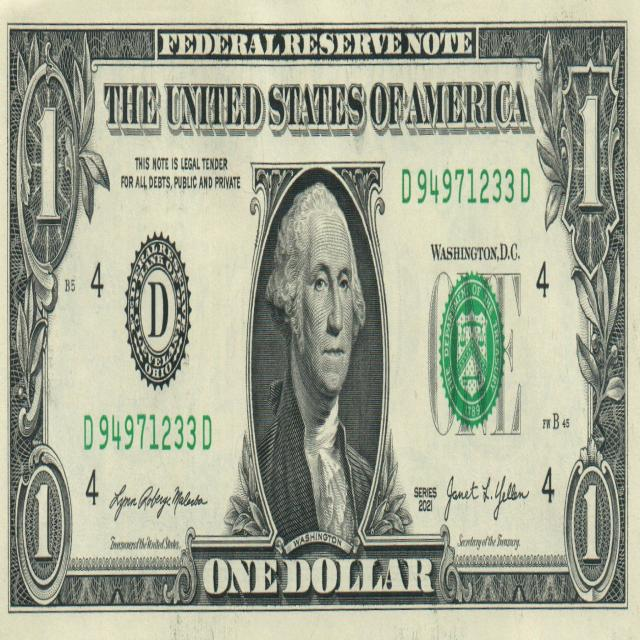SerialNumber: (85, 414, 211, 450), (402, 169, 530, 204)
